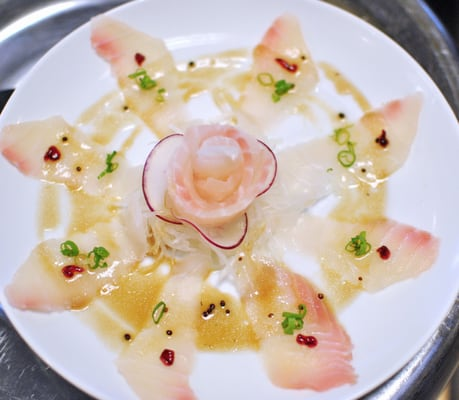curry: (5, 12, 456, 393)
